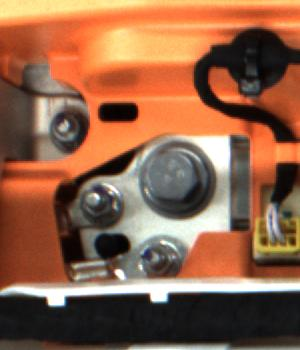nut_b: (134, 136, 224, 221)
screw_s: (49, 113, 91, 157), (82, 185, 124, 217), (133, 241, 174, 271)
